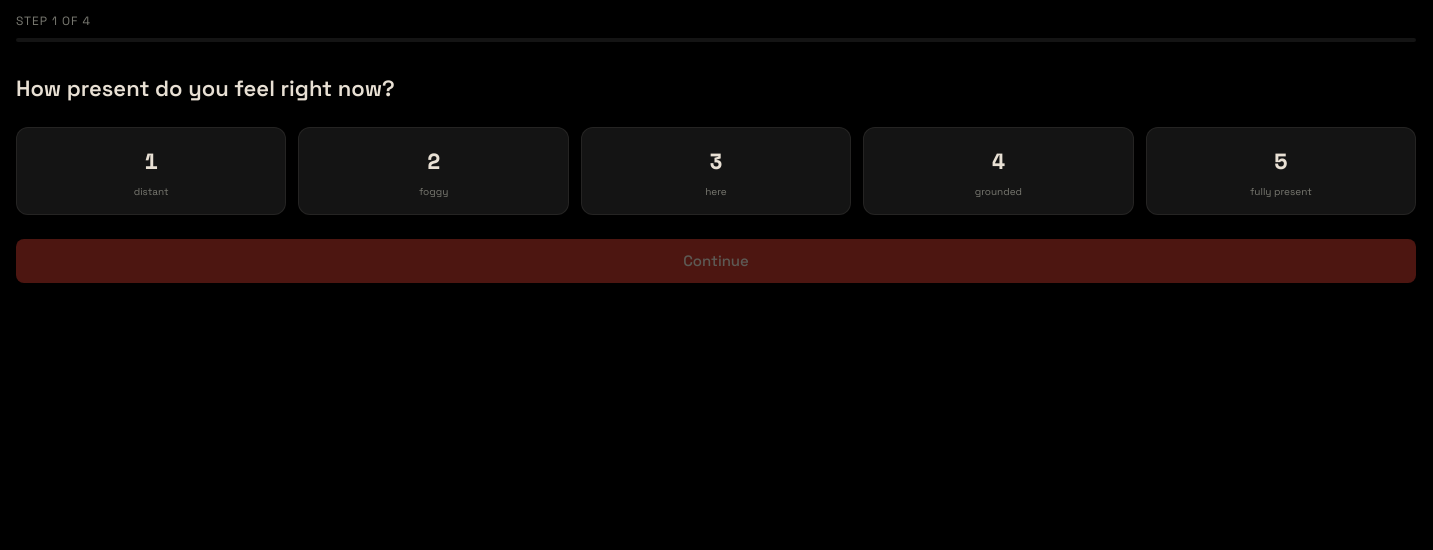
it: DailyCheckIn flow › advances to emotion step after presence selection
This screenshot has width=1433, height=550.
Expected: the heading "How present do you feel right now?" is shown, x1=16 y1=74 x2=395 y2=102
Click the button "3 here".
click(716, 171)  # box x1=581 y1=127 x2=851 y2=215
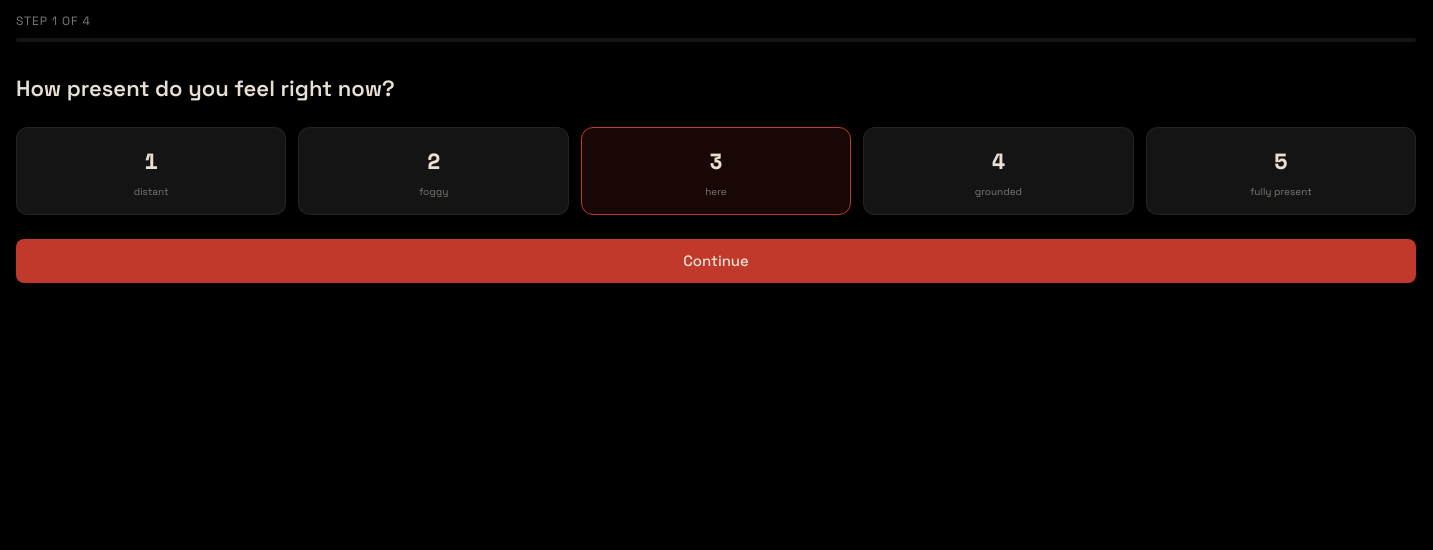
Click the button "Continue".
click(716, 261)  # box x1=16 y1=239 x2=1416 y2=283
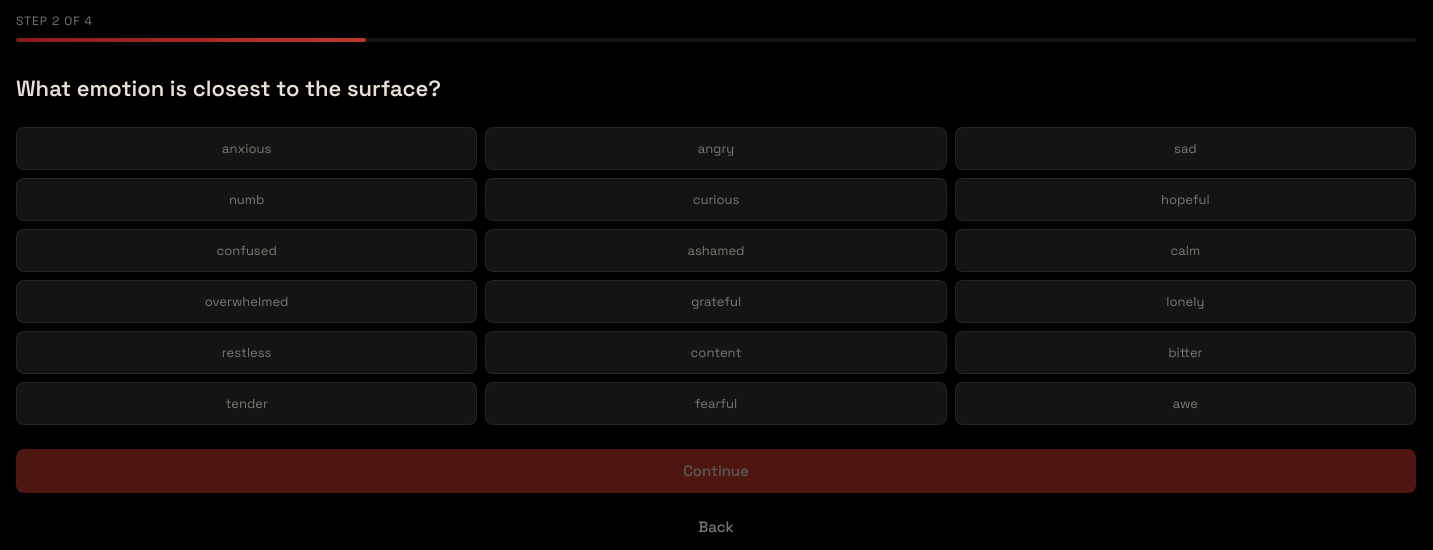
Now the heading "What emotion is closest to the surface?" is shown, box x1=16 y1=74 x2=441 y2=102
